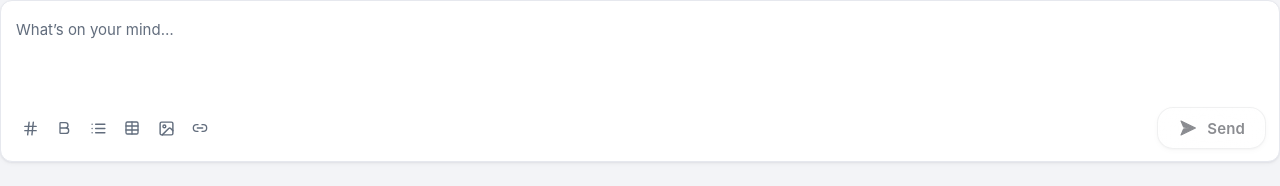
Test: tag completion › keeps Enter's own meaning once the typed run already spells a tag
Type "Weekend #life" into the dropdown named "Memo content" at (640, 49), box [14,15,1266,83]
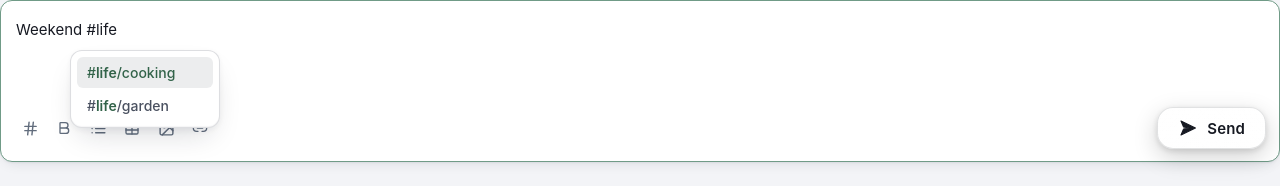
Note: …but Enter no longer swaps #life for its first child.
Press Enter
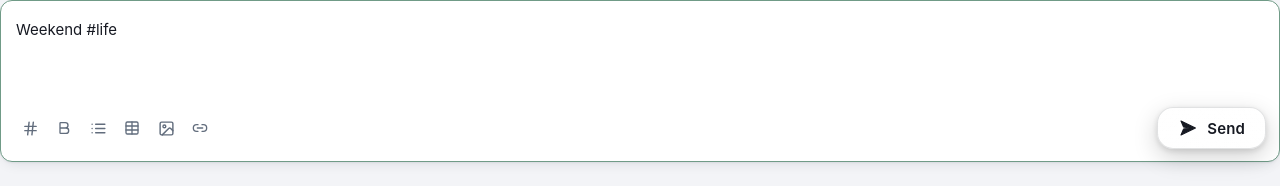
expect the list is gone: met
